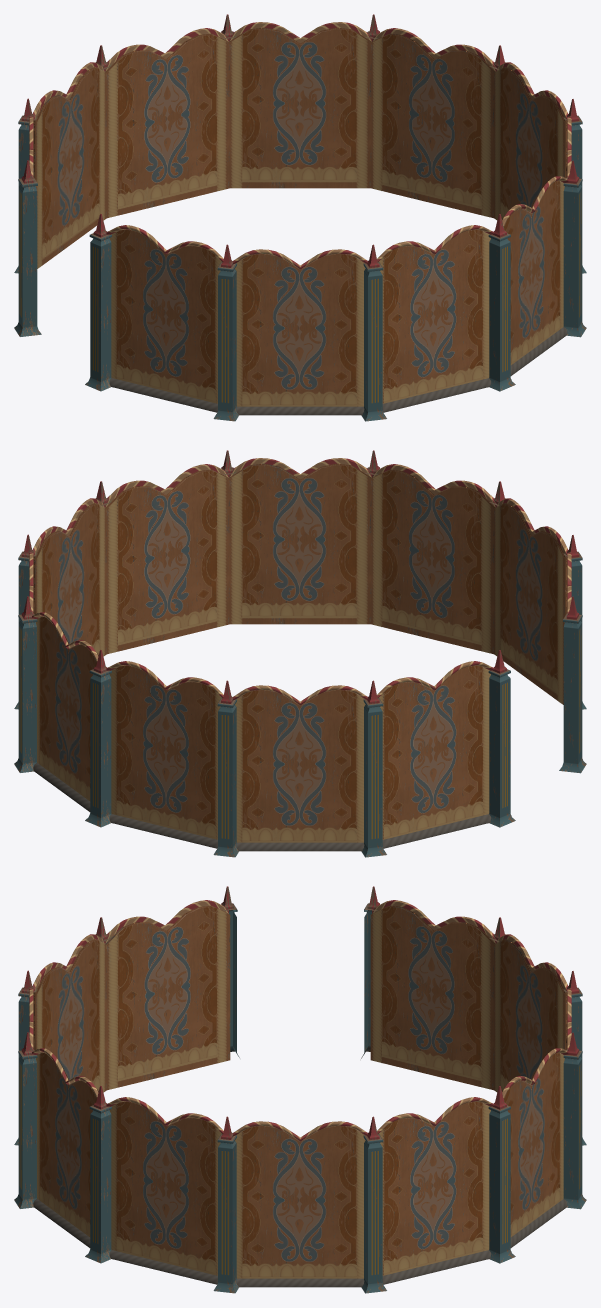
The model's file is SM_Carousel_Walls.fbx.
3 views of the same model, one above another, from view 1: azimuth 30°, elevation 25°; view 2: azimuth 150°, elevation 25°; view 3: azimuth 270°, elevation 25° (orthographic).
Parts seen in each view (by area): view 1: SM_Carousel_Walls_LOD0; view 2: SM_Carousel_Walls_LOD0; view 3: SM_Carousel_Walls_LOD0.
Part boxes in pixels (x1,y1,x2,y2): SM_Carousel_Walls_LOD0: [14, 14, 586, 421]; SM_Carousel_Walls_LOD0: [14, 450, 586, 857]; SM_Carousel_Walls_LOD0: [14, 886, 586, 1293].
Size of the model in its own units: 630 by 630 by 207.
Materials: 1 (1 with a texture image).
